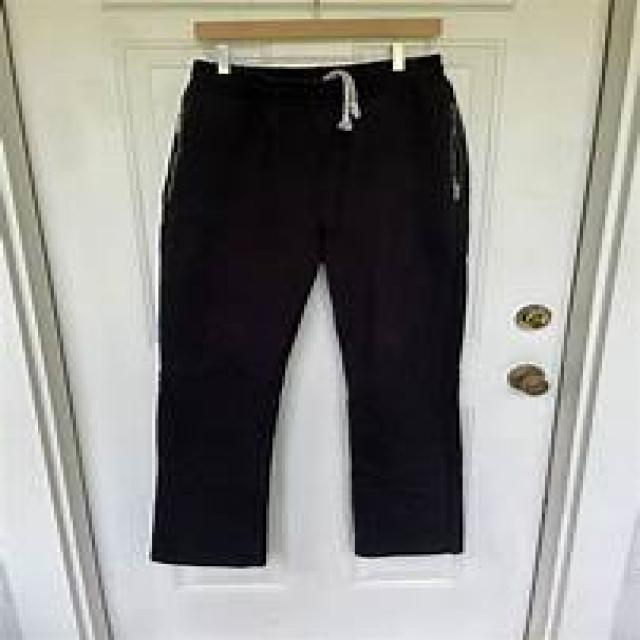long-pants: (149, 52, 471, 568)
